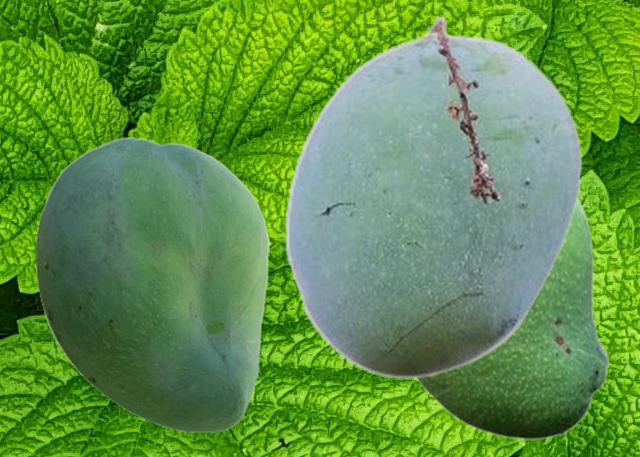green_mango: (284, 15, 582, 378), (35, 137, 268, 432), (415, 199, 609, 440)
